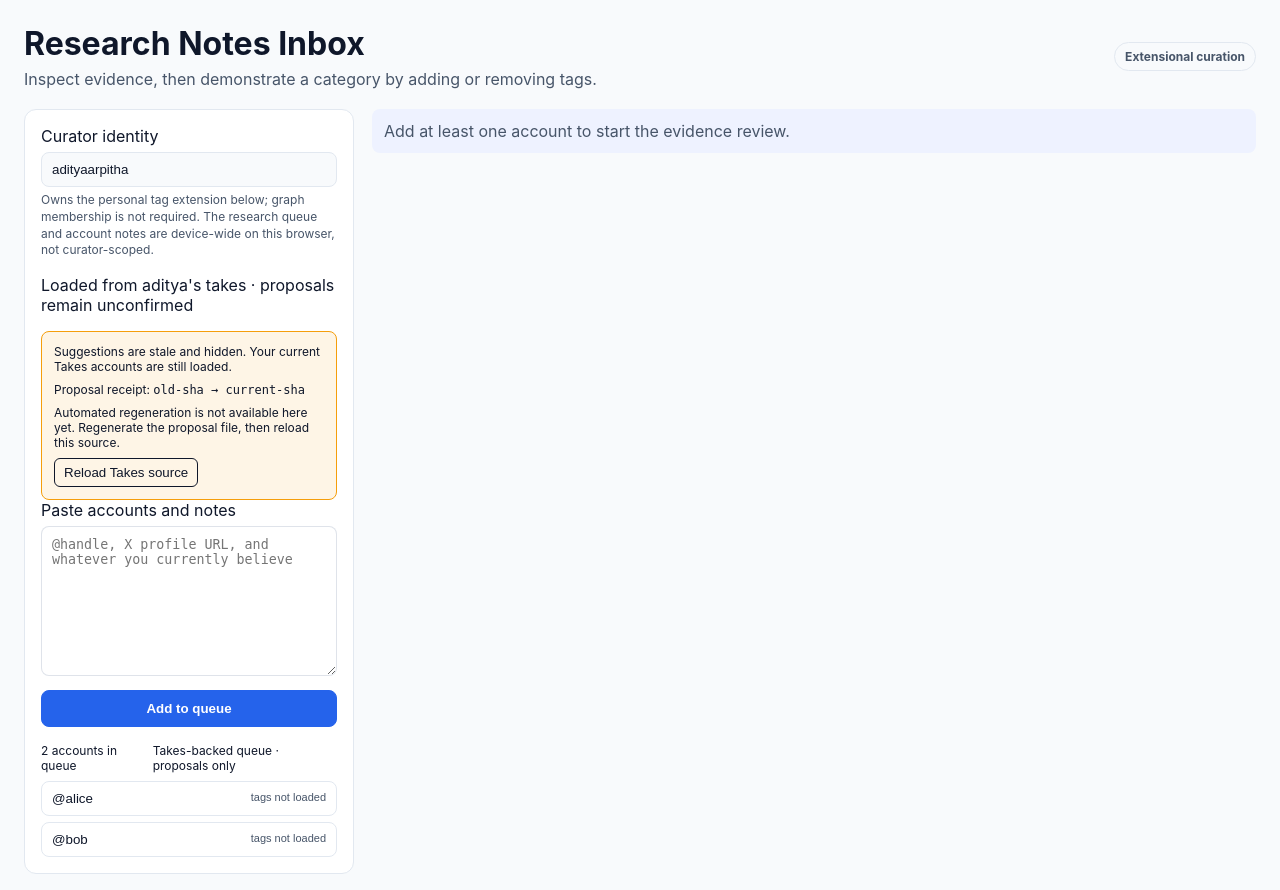
Test case: ResearchNotesInbox › keeps edited Takes accounts visible while stale proposals are quarantined
The width and height of the screenshot is (1280, 890).
Expected: the text "2 accounts in queue" is shown, [41, 743, 117, 773]
Expected: the message shows "Suggestions are stale and hidden", [54, 344, 320, 374]
Click the button "Reload Takes source".
click(126, 473)  # box [54, 458, 198, 487]
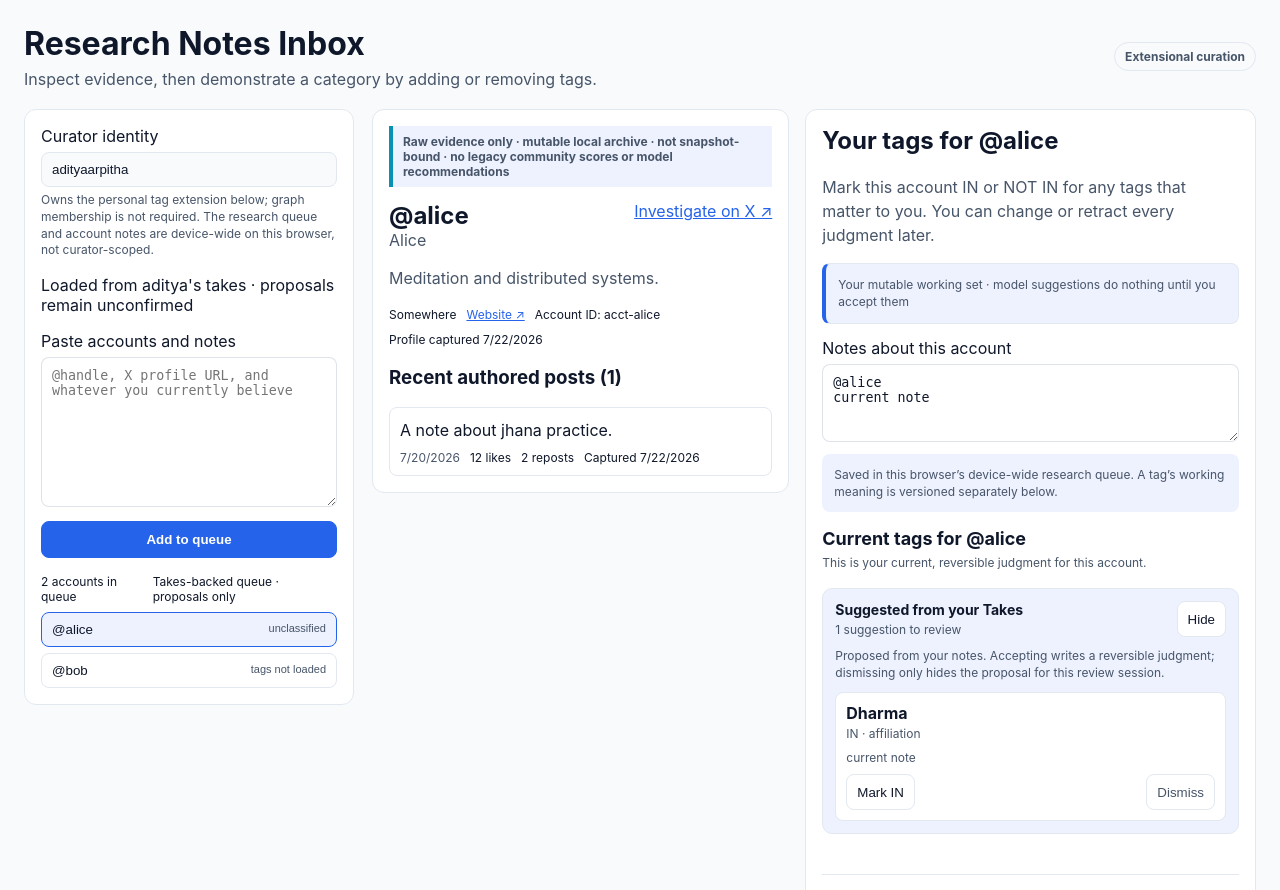
Now the heading "Suggested from your Takes" is shown, box [835, 601, 1023, 618]
Now the text "Suggestions are stale and hidden" is gone
